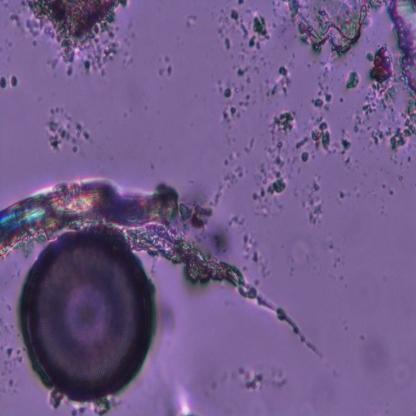Background material: (142, 231, 314, 356), (22, 0, 127, 50), (285, 0, 371, 52), (387, 2, 416, 154), (209, 133, 259, 202), (203, 363, 289, 396), (232, 203, 274, 269), (350, 84, 396, 141), (46, 106, 90, 157), (55, 46, 126, 77), (347, 276, 383, 316), (216, 92, 255, 127), (302, 173, 325, 228), (0, 344, 25, 394), (386, 346, 413, 392), (366, 45, 396, 85), (362, 330, 389, 372), (166, 383, 199, 416), (323, 225, 342, 275), (270, 110, 298, 135), (252, 13, 274, 43), (310, 121, 332, 150), (272, 66, 290, 95), (156, 54, 175, 78), (314, 90, 334, 112), (296, 133, 310, 163), (344, 69, 362, 92), (266, 177, 286, 195), (0, 72, 19, 89), (336, 186, 352, 205), (379, 183, 398, 198), (227, 7, 242, 25), (338, 136, 353, 153), (233, 63, 250, 77), (185, 14, 198, 32), (219, 84, 234, 98), (223, 37, 232, 53)
Cellulose filter fibre: (0, 170, 274, 245)
Diatom: (19, 228, 157, 405)
